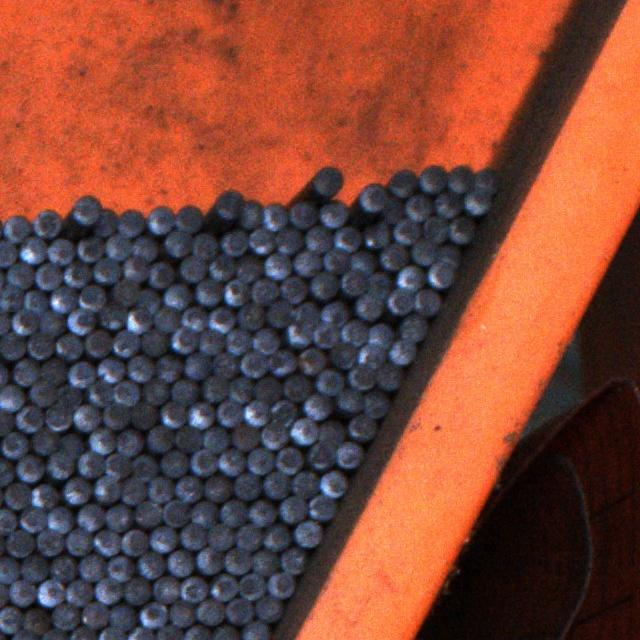tool: (32, 207, 62, 237), (312, 166, 342, 196), (216, 188, 245, 218), (420, 164, 449, 193), (358, 182, 387, 211), (71, 194, 100, 223), (147, 204, 175, 234), (318, 200, 348, 228), (173, 204, 201, 233), (287, 200, 316, 228), (390, 168, 418, 197), (446, 164, 474, 193), (136, 552, 164, 580), (78, 503, 106, 531), (290, 416, 318, 444), (309, 272, 337, 300), (4, 214, 32, 242), (16, 454, 44, 482), (230, 424, 258, 452), (320, 469, 348, 497), (208, 574, 236, 602), (434, 190, 462, 218), (330, 340, 358, 368), (94, 474, 120, 504), (36, 580, 64, 607), (262, 470, 289, 498), (245, 446, 272, 474), (86, 330, 113, 358), (347, 414, 375, 441), (0, 430, 27, 458), (140, 328, 168, 355), (105, 503, 132, 531), (92, 257, 120, 284), (278, 276, 305, 304), (6, 263, 34, 290), (165, 550, 192, 578), (118, 208, 145, 236), (274, 446, 302, 473), (6, 529, 34, 556), (62, 260, 89, 288), (340, 320, 368, 347), (192, 232, 219, 260), (46, 404, 74, 431), (305, 226, 333, 253), (282, 374, 310, 401), (304, 394, 332, 421), (426, 262, 454, 289), (399, 313, 426, 341), (103, 402, 130, 430), (354, 293, 382, 320), (66, 308, 95, 334), (262, 420, 288, 449), (173, 476, 200, 503), (162, 500, 189, 527), (19, 237, 46, 264), (16, 405, 43, 432), (52, 602, 79, 629), (165, 231, 192, 258), (62, 478, 89, 505), (13, 359, 40, 386), (196, 598, 223, 625), (69, 361, 96, 388), (204, 475, 231, 502), (160, 450, 187, 477), (224, 547, 251, 574), (449, 216, 476, 243), (236, 302, 263, 329), (95, 578, 122, 605), (247, 500, 274, 527), (315, 368, 342, 395), (127, 354, 154, 381), (406, 195, 433, 222), (292, 471, 319, 498), (171, 378, 198, 405), (115, 429, 142, 456), (31, 427, 58, 454), (190, 500, 217, 527), (173, 426, 200, 453), (196, 278, 223, 305), (379, 242, 406, 269), (311, 320, 338, 347), (267, 301, 294, 328), (318, 419, 345, 446), (294, 521, 322, 547), (48, 238, 74, 266), (224, 598, 252, 624), (20, 556, 48, 582), (277, 496, 305, 522), (114, 330, 140, 358), (262, 524, 290, 550), (28, 332, 54, 360), (76, 451, 104, 477), (293, 249, 321, 275), (66, 526, 92, 554), (171, 326, 199, 352), (296, 348, 324, 374), (389, 338, 417, 364), (234, 256, 262, 282), (5, 482, 31, 510), (46, 451, 74, 477), (48, 506, 74, 534), (464, 187, 492, 213), (268, 349, 296, 375), (130, 402, 156, 430), (110, 279, 138, 305), (356, 342, 384, 368), (42, 358, 68, 386), (238, 200, 263, 229), (139, 602, 166, 628), (179, 522, 205, 549), (80, 284, 106, 311), (268, 571, 295, 597), (121, 529, 148, 555), (219, 499, 245, 526), (148, 526, 175, 552), (275, 228, 301, 255), (236, 524, 262, 551), (308, 494, 335, 520), (153, 575, 179, 602), (255, 594, 282, 620), (237, 574, 264, 600), (208, 253, 234, 280), (80, 554, 107, 580), (66, 579, 92, 606), (219, 448, 245, 475), (75, 404, 101, 431), (141, 377, 167, 404), (250, 550, 277, 576), (264, 253, 290, 280), (250, 278, 276, 305), (240, 349, 266, 376), (217, 399, 243, 426), (234, 472, 260, 499), (202, 427, 228, 454), (334, 225, 361, 251), (250, 227, 276, 254), (223, 279, 249, 306), (13, 307, 39, 334), (148, 426, 174, 453), (181, 256, 207, 283), (34, 264, 60, 291), (133, 501, 160, 527), (164, 283, 191, 309), (82, 603, 109, 629), (375, 361, 401, 388), (20, 507, 47, 533), (348, 363, 374, 390), (110, 603, 137, 629), (269, 399, 296, 425), (202, 376, 228, 403), (255, 376, 282, 402), (51, 287, 78, 313), (397, 265, 424, 291), (386, 288, 412, 315), (156, 354, 183, 380), (29, 380, 56, 406), (22, 607, 49, 633), (323, 302, 350, 328), (364, 222, 391, 248), (99, 302, 125, 329), (263, 201, 288, 229), (93, 207, 117, 236), (104, 452, 130, 478), (36, 529, 62, 555), (336, 442, 362, 468), (196, 548, 222, 574), (90, 428, 116, 454), (50, 554, 76, 580), (242, 400, 268, 426), (413, 288, 439, 314), (189, 450, 215, 476), (146, 477, 172, 503), (221, 229, 247, 255), (186, 352, 212, 378), (279, 548, 305, 574), (206, 524, 232, 550), (104, 234, 130, 260), (186, 401, 212, 427), (169, 600, 195, 626), (124, 577, 150, 603), (113, 380, 139, 406), (228, 376, 254, 402), (87, 379, 113, 405), (179, 576, 205, 602), (341, 270, 367, 296), (160, 402, 186, 428), (422, 216, 448, 242), (107, 555, 133, 581), (55, 335, 81, 361), (120, 255, 146, 281), (40, 309, 66, 335), (132, 236, 158, 262), (149, 262, 175, 288), (208, 306, 234, 332), (367, 322, 393, 348), (364, 392, 390, 418), (308, 443, 334, 469), (365, 272, 391, 298), (292, 300, 318, 326), (253, 328, 280, 353), (97, 357, 124, 382), (121, 478, 146, 505), (76, 237, 103, 262), (31, 483, 58, 508), (475, 169, 500, 196), (224, 328, 249, 354), (10, 581, 36, 606), (322, 248, 348, 273), (94, 529, 119, 555), (199, 329, 224, 355), (132, 455, 157, 481), (180, 306, 206, 331), (394, 218, 420, 243), (212, 351, 237, 377), (128, 307, 154, 332), (154, 306, 179, 332), (349, 250, 375, 275), (57, 384, 83, 409), (411, 236, 436, 262), (0, 333, 24, 360), (0, 383, 24, 410), (59, 434, 85, 458), (284, 325, 310, 349), (24, 290, 48, 315), (338, 388, 363, 412), (436, 244, 462, 267), (378, 197, 401, 223), (0, 285, 22, 312), (0, 607, 22, 633), (241, 620, 269, 640), (138, 288, 160, 312), (0, 557, 19, 583), (0, 240, 16, 267), (0, 509, 16, 536), (156, 624, 182, 640), (212, 625, 239, 640), (0, 407, 14, 435), (0, 457, 14, 485), (184, 625, 210, 640), (98, 626, 125, 640), (71, 626, 97, 640), (127, 627, 153, 640), (39, 628, 65, 640), (12, 629, 40, 640), (0, 309, 11, 335), (0, 360, 8, 388), (0, 582, 7, 610)
